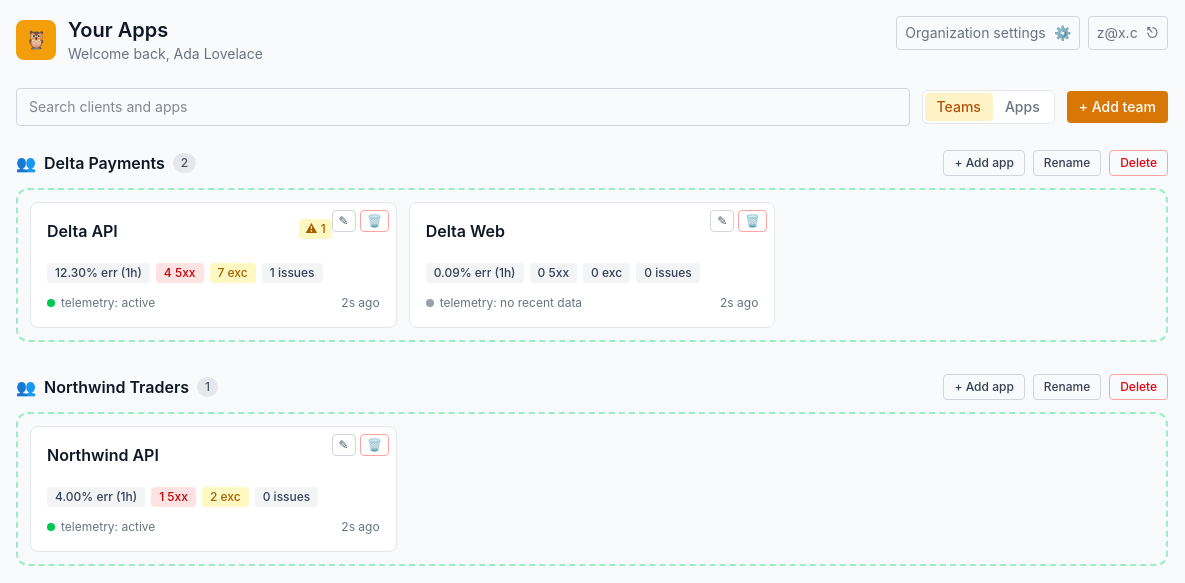
OrgDashboard › switches to the flat Apps view
The width and height of the screenshot is (1185, 583).
Click the button "Apps" at (1022, 107), box [993, 93, 1052, 121]
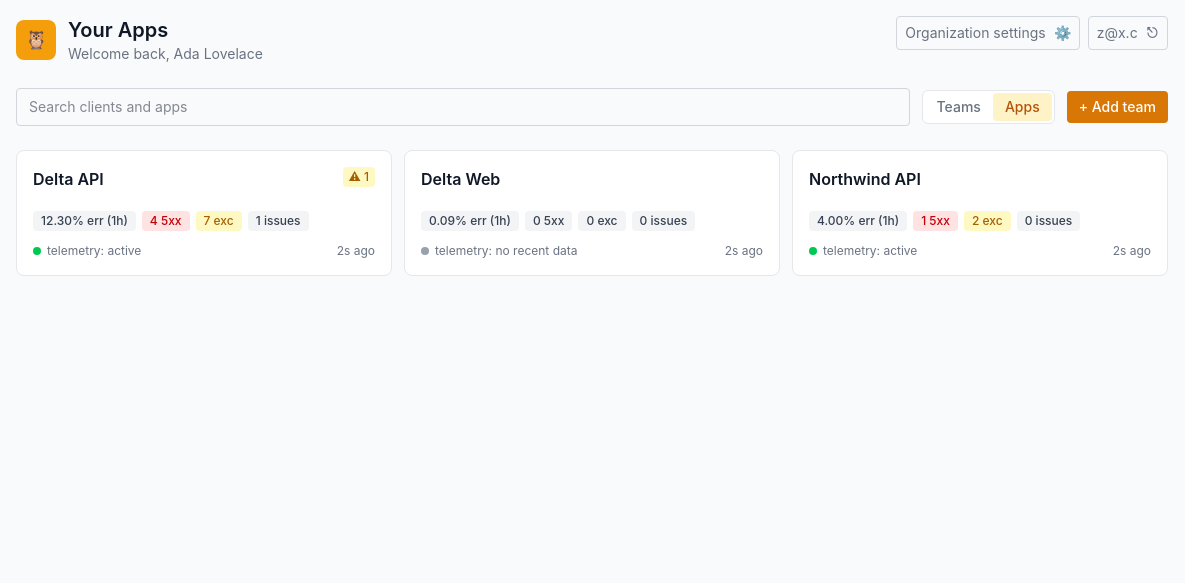
Expected: the text "Delta API" is shown, [33, 167, 104, 191]
Expected: the text "Delta Payments" is gone
